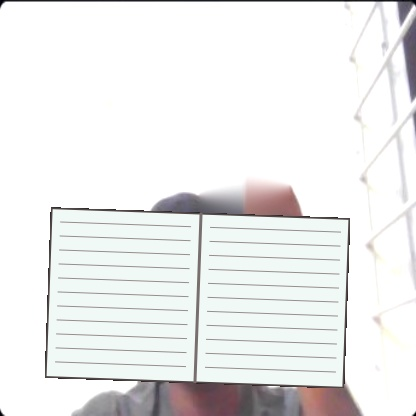book: (45, 207, 350, 388)
